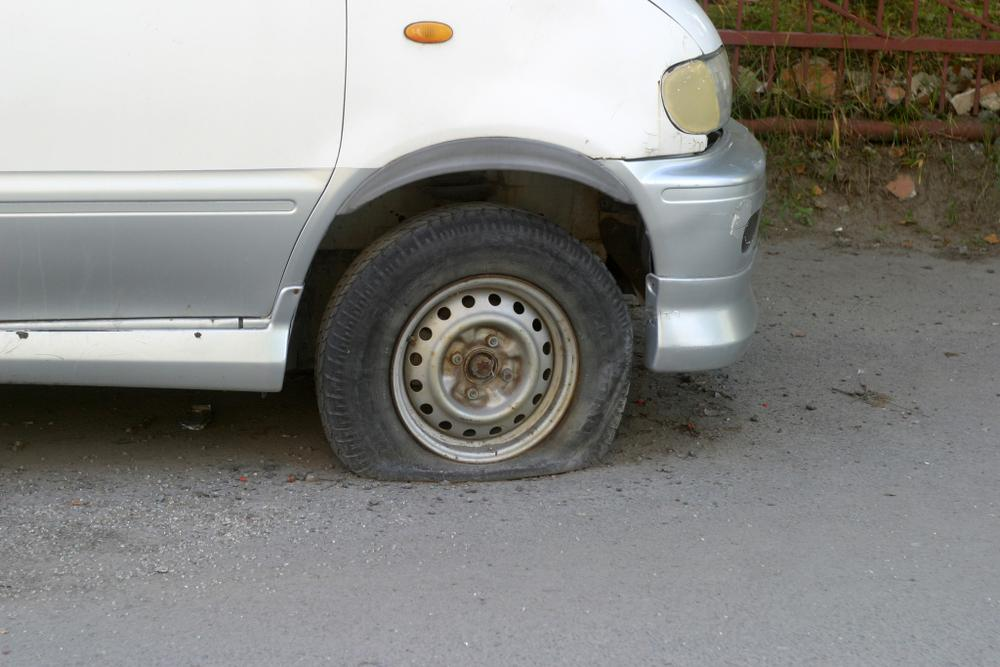tire flat: (317, 197, 639, 483)
